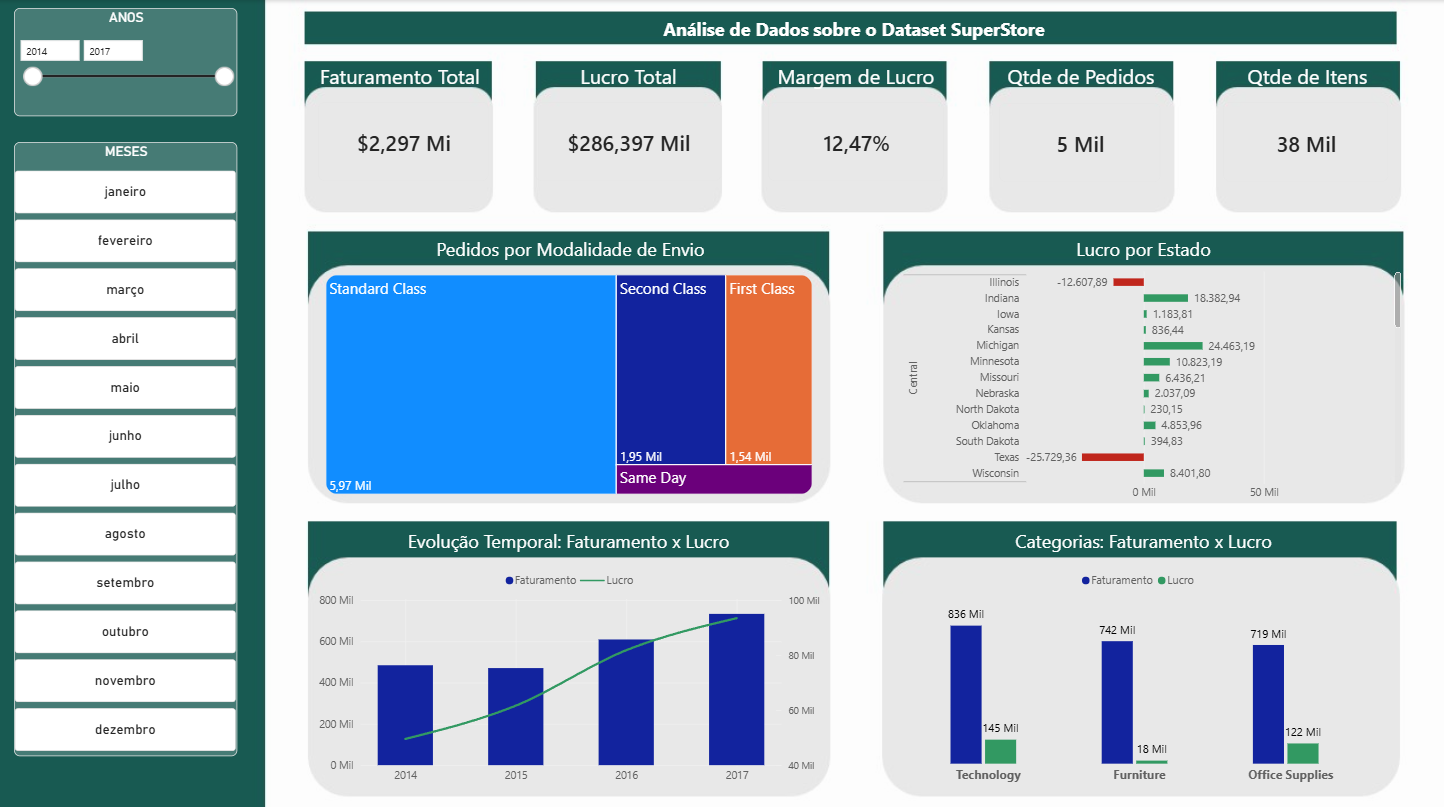

The dashboard page shown, as its layout file describes it:
{"tool":"powerbi","page":{"name":"Página 1","canvas":[1920,1080],"ordinal":0},"visuals":[{"type":"cardVisual","title":"Faturamento Total","fields":{"Data":["Fato_Vendas.Faturamento Total"]},"box":[423,135.7,227.4,105.1],"z":0},{"type":"cardVisual","title":"Lucro Total","fields":{"Data":["Fato_Vendas.Lucro Total"]},"box":[711.6,135.7,248.7,105.1],"z":1000},{"type":"cardVisual","title":"Margem de Lucro","fields":{"Data":["Fato_Vendas.Margem de Lucro"]},"box":[1021.5,135.7,234.1,105.1],"z":2000},{"type":"cardVisual","title":"Qtde de Pedidos","fields":{"Data":["Fato_Vendas.Qtde Pedidos"]},"box":[1328.7,137,215.5,105.1],"z":3000},{"type":"treemap","title":"Pedidos por Modalidade de Envio","fields":{"Group":["Fato_Vendas.Ship Mode"],"Values":["CountNonNull(Fato_Vendas.Order ID)"]},"box":[432.3,364.4,649.1,293.9],"z":4000},{"type":"cardVisual","title":"Qtde de Unidades Vendidas","fields":{"Data":["Fato_Vendas.Qtde Unidades Vendidas"]},"box":[1626.7,135.7,220.8,106.4],"z":5000},{"type":"barChart","title":"Lucro por Estado","fields":{"Category":["Dim_Local.Region","Dim_Local.State"],"Y":["Sum(Fato_Vendas.Profit)"]},"box":[1198.4,353.8,665,316.6],"z":6000},{"type":"slicer","title":"ANOS","fields":{"Values":["dCalendario.Year"]},"box":[18.6,10.6,296.6,143.6],"z":7000},{"type":"advancedSlicerVisual","title":"MESES","fields":{"Values":["dCalendario.Month Name"]},"box":[18.6,188.9,296.6,816.7],"z":8000},{"type":"textbox","box":[413.6,82.5,236.7,54.5],"z":9000},{"type":"textbox","box":[711.6,82.5,248.7,38.6],"z":10000},{"type":"textbox","box":[1021.5,82.5,234.1,38.6],"z":11000},{"type":"textbox","box":[1315.4,82.5,244.7,54.5],"z":12000},{"type":"textbox","box":[1614.7,82.5,248.7,65.2],"z":13000},{"type":"textbox","box":[413.6,313.9,690.3,50.5],"z":14000},{"type":"textbox","box":[1178.4,313.9,685,39.9],"z":15000},{"type":"textbox","box":[1178.4,702.3,685,39.9],"z":16000},{"type":"clusteredColumnChart","fields":{"Category":["Dim_Produto.Category"],"Y":["Sum(Fato_Vendas.Sales)","Sum(Fato_Vendas.Profit)"]},"box":[1167.8,742.2,695.6,319.2],"z":17000},{"type":"lineStackedColumnComboChart","fields":{"Category":["dCalendario.Date.Variação.Hierarquia de datas.Ano"],"Y":["Sum(Fato_Vendas.Sales)"],"Y2":["Sum(Fato_Vendas.Profit)"]},"box":[408.3,742.2,702.3,319.2],"z":18000},{"type":"textbox","box":[408.3,702.3,695.6,39.9],"z":19000},{"type":"textbox","box":[408.3,21.3,1455.1,37.2],"z":19001}]}

Visuals, with their boxes in screenshot pixels (x1, y1, x2, y2), scaled from the page's 1920x1080 canvas onto the 1444x807 screenshot:
"Faturamento Total" cardVisual: {"left": 318, "top": 101, "right": 489, "bottom": 180}
"Lucro Total" cardVisual: {"left": 535, "top": 101, "right": 722, "bottom": 180}
"Margem de Lucro" cardVisual: {"left": 768, "top": 101, "right": 944, "bottom": 180}
"Qtde de Pedidos" cardVisual: {"left": 999, "top": 102, "right": 1161, "bottom": 181}
"Pedidos por Modalidade de Envio" treemap: {"left": 325, "top": 272, "right": 813, "bottom": 492}
"Qtde de Unidades Vendidas" cardVisual: {"left": 1223, "top": 101, "right": 1389, "bottom": 181}
"Lucro por Estado" barChart: {"left": 901, "top": 264, "right": 1401, "bottom": 501}
"ANOS" slicer: {"left": 14, "top": 8, "right": 237, "bottom": 115}
"MESES" advancedSlicerVisual: {"left": 14, "top": 141, "right": 237, "bottom": 751}
textbox: {"left": 311, "top": 62, "right": 489, "bottom": 102}
textbox: {"left": 535, "top": 62, "right": 722, "bottom": 90}
textbox: {"left": 768, "top": 62, "right": 944, "bottom": 90}
textbox: {"left": 989, "top": 62, "right": 1173, "bottom": 102}
textbox: {"left": 1214, "top": 62, "right": 1401, "bottom": 110}
textbox: {"left": 311, "top": 235, "right": 830, "bottom": 272}
textbox: {"left": 886, "top": 235, "right": 1401, "bottom": 264}
textbox: {"left": 886, "top": 525, "right": 1401, "bottom": 555}
clusteredColumnChart - Dim_Produto.Category x Sum(Fato_Vendas.Sales): {"left": 878, "top": 555, "right": 1401, "bottom": 793}
lineStackedColumnComboChart - dCalendario.Date.Variação.Hierarquia de datas.Ano x Sum(Fato_Vendas.Sales): {"left": 307, "top": 555, "right": 835, "bottom": 793}
textbox: {"left": 307, "top": 525, "right": 830, "bottom": 555}
textbox: {"left": 307, "top": 16, "right": 1401, "bottom": 44}
